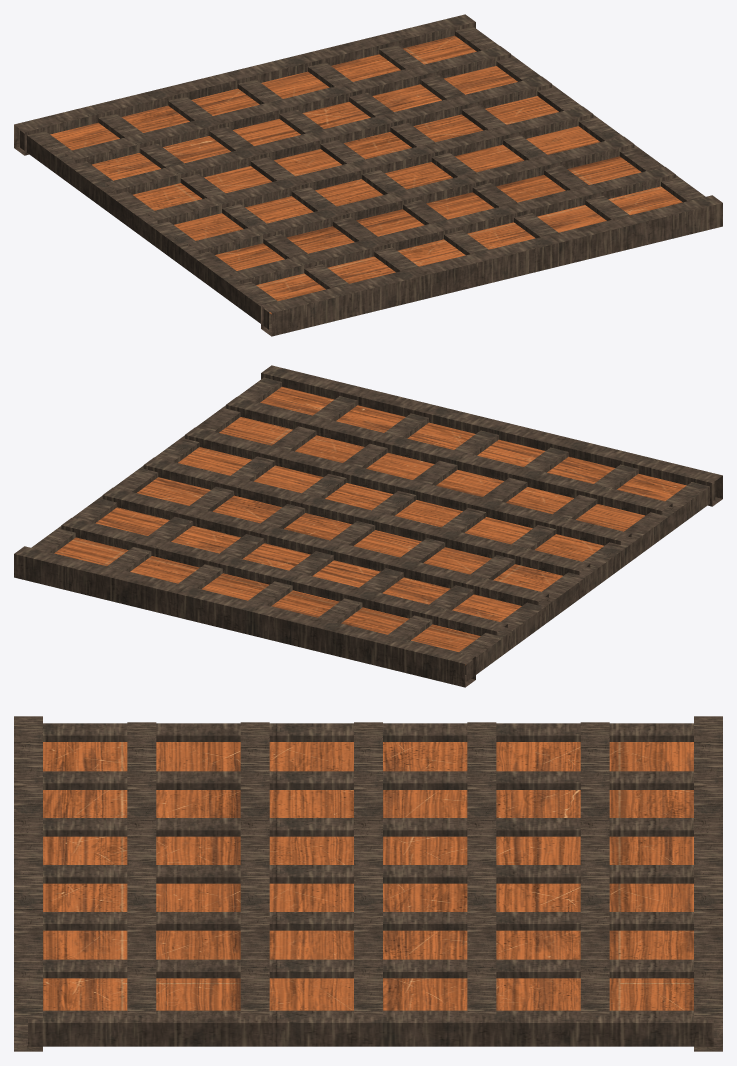
Rendered from SM_Roof_Panel.fbx.
3 views of the same model, one above another, from view 1: azimuth 30°, elevation 25°; view 2: azimuth 150°, elevation 25°; view 3: azimuth 270°, elevation 25° (orthographic). The views are drawn at different scales.
Visible parts, largest first — view 1: SM_Roof_Panel_LOD0; view 2: SM_Roof_Panel_LOD0; view 3: SM_Roof_Panel_LOD0.
Part boxes in pixels (<box>): SM_Roof_Panel_LOD0: <box>14,14,722,336</box>; SM_Roof_Panel_LOD0: <box>14,365,722,687</box>; SM_Roof_Panel_LOD0: <box>14,716,722,1051</box>.
Size of the model in its own units: 193 by 191 by 9.63.
